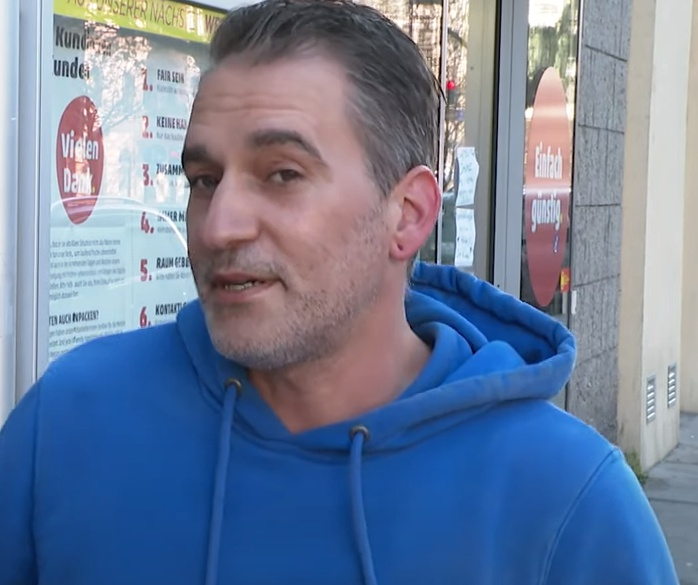mouth: (201, 267, 282, 306)
nose: (199, 218, 259, 253)
